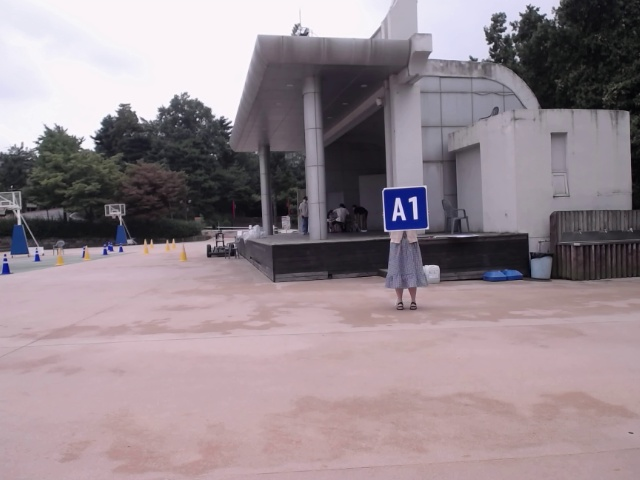delivery_a1: (382, 187, 428, 231)
